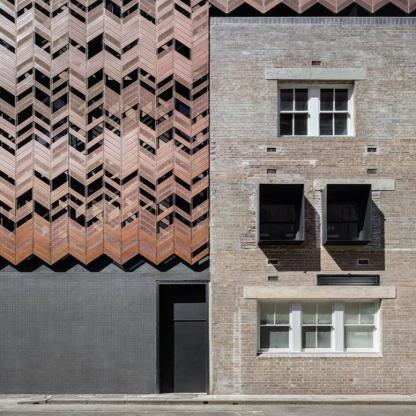Building Outline: (0, 0, 416, 395)
Cornice: (243, 286, 396, 299), (265, 68, 367, 79)
Deco: (0, 0, 416, 266)
Door: (160, 287, 206, 394)
Door Hole: (160, 284, 206, 394)
Facade: (0, 0, 416, 395)
Window: (256, 299, 380, 353), (277, 83, 354, 137), (260, 194, 301, 240), (328, 194, 368, 240)
Window Hole: (257, 299, 383, 357), (277, 80, 354, 138), (260, 184, 303, 240), (328, 184, 371, 240)
